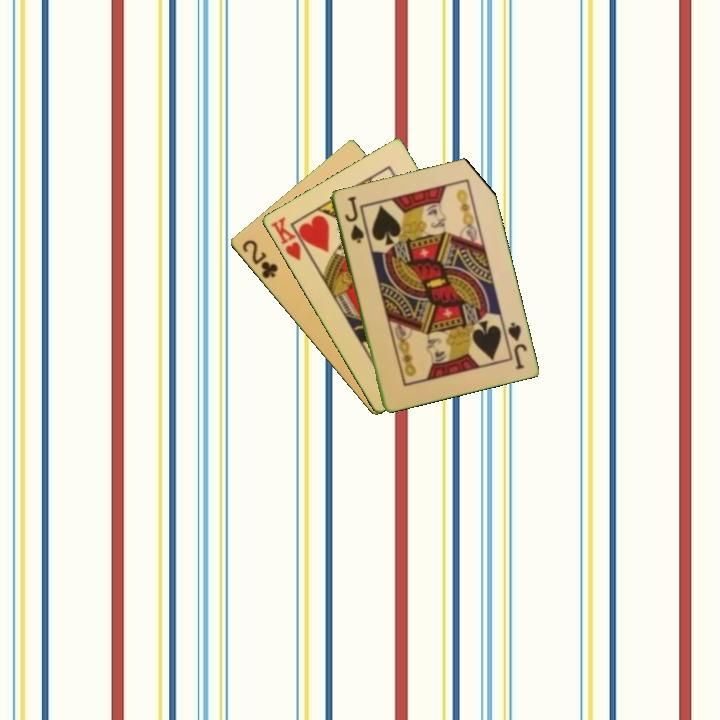2c: (238, 236, 281, 282)
Js: (341, 193, 366, 246), (504, 319, 529, 372)
Kh: (267, 213, 313, 264)
